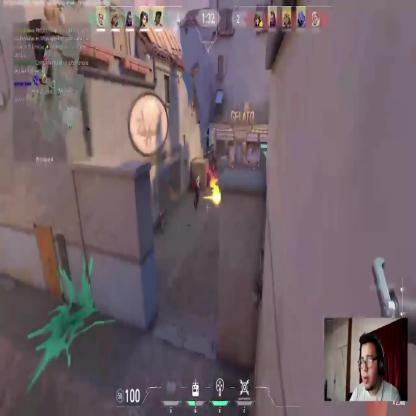enemy: (249, 164, 257, 197), (193, 174, 200, 209), (229, 162, 236, 192), (209, 160, 216, 189)
enemy_head: (231, 164, 234, 170), (211, 163, 214, 169), (197, 175, 200, 180), (252, 166, 254, 170)
